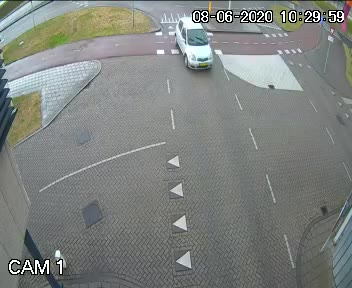car: (170, 11, 224, 85)
